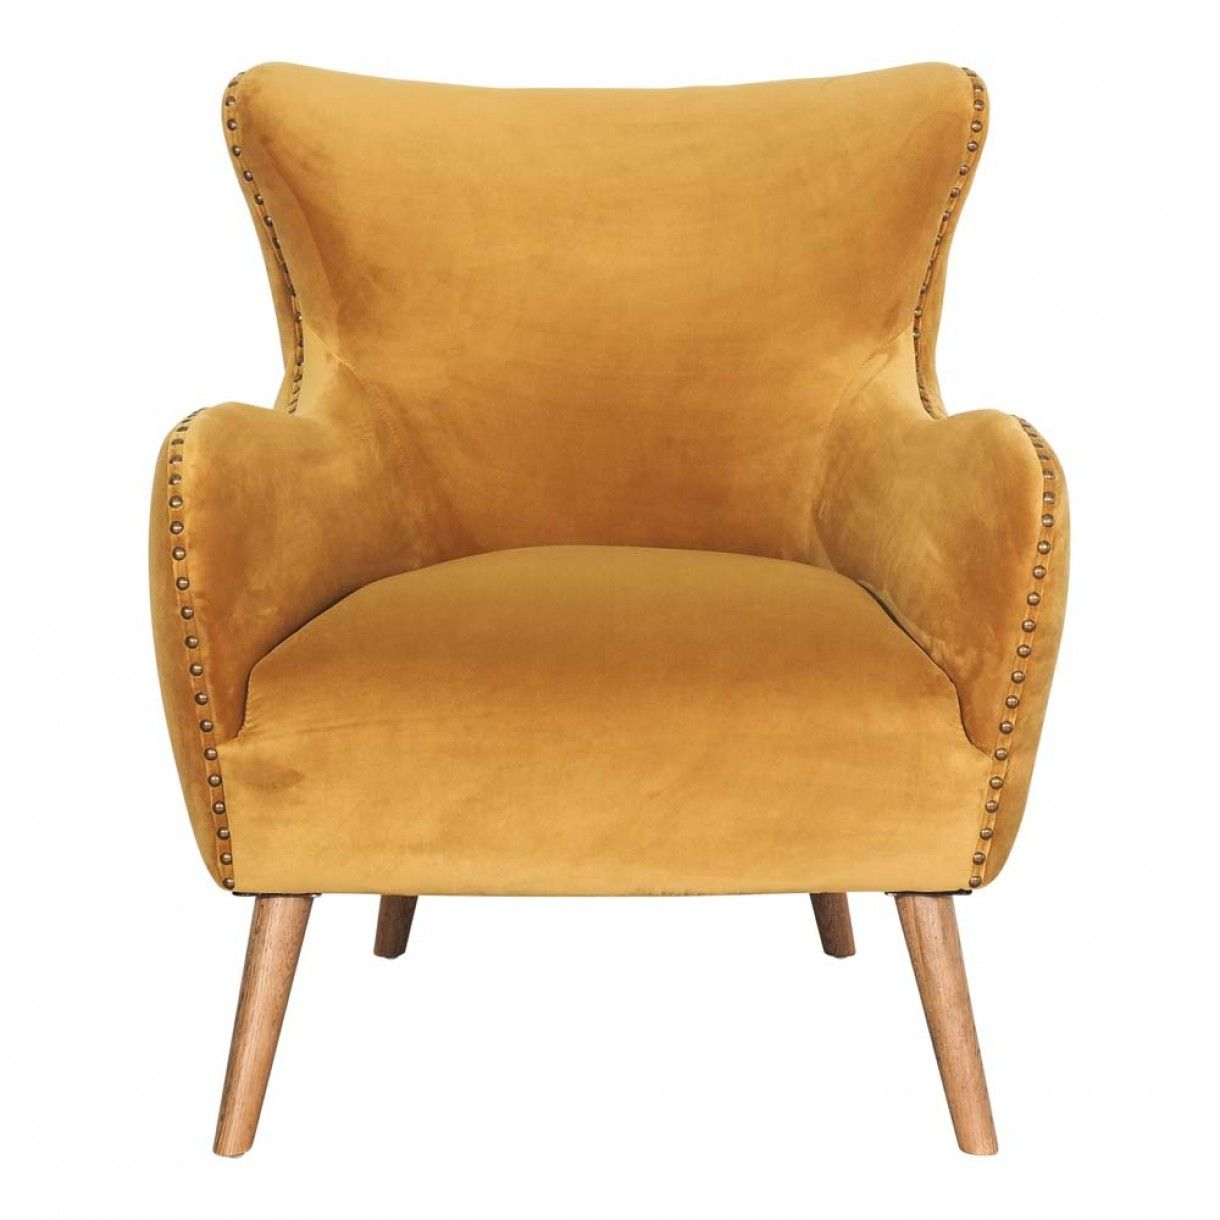chairs: (134, 56, 1074, 1167)
